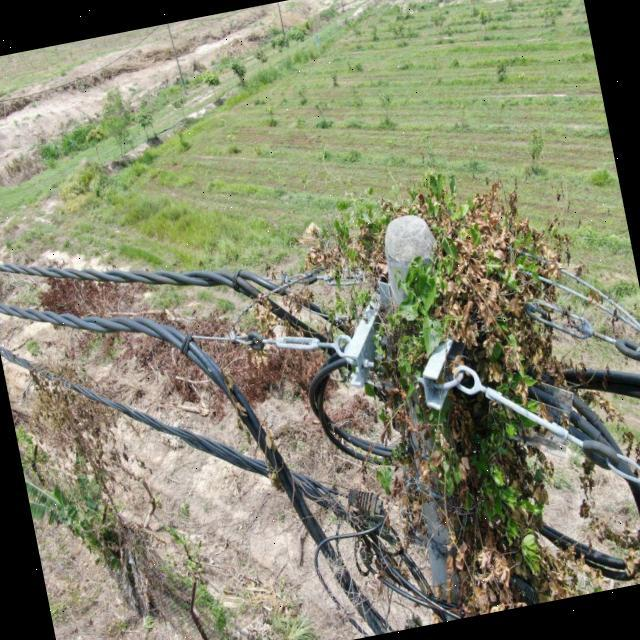critical vegetation: (246, 124, 640, 629)
